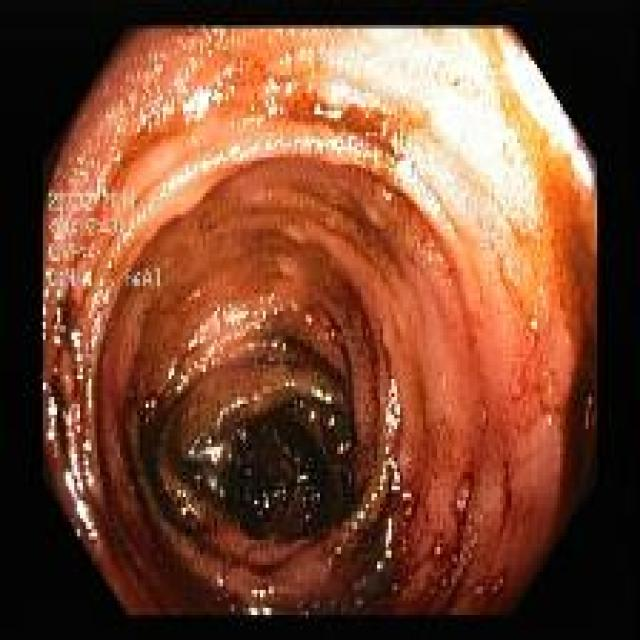ulcerative-colitis: (45, 28, 596, 614)
